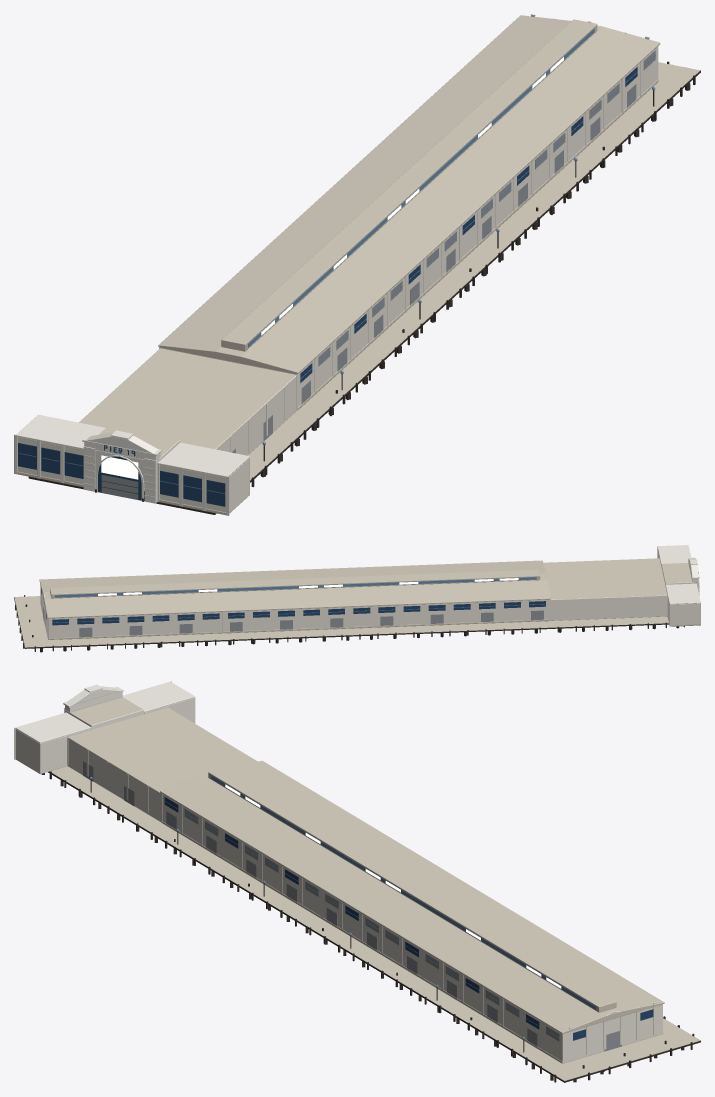
Rendered from pier-19.glb.
3 renders of one model, top to bottom at view 1: azimuth 30°, elevation 25°; view 2: azimuth 150°, elevation 25°; view 3: azimuth 270°, elevation 25°, orthographic. The views are drawn at different scales.
Visible parts, largest first — view 1: shed_roof, extension, deck, monitor, shed, bulkhead_s_cope, bulkhead_s, bulkhead_n_cope, mon_glass_True, shed_plinth, pavilion, bulkhead_n; view 2: shed_roof, shed, extension, deck, monitor, shed_plinth, mon_glass_False, bulkhead_n, bulkhead_n_cope, pavilion, bulkhead_s_cope; view 3: shed_roof, deck, extension, shed, monitor, bulkhead_s, pavilion, bulkhead_s_cope, bulkhead_n_cope, mon_glass_True, shed_plinth.
Part boxes in pixels (x1=…): shed_roof: x1=158, y1=15, x2=660, y2=373; extension: x1=79, y1=348, x2=297, y2=455; deck: x1=28, y1=62, x2=700, y2=514; monitor: x1=221, y1=19, x2=597, y2=351; shed: x1=160, y1=46, x2=658, y2=406; bulkhead_s_cope: x1=158, y1=442, x2=249, y2=477; bulkhead_s: x1=159, y1=457, x2=249, y2=513; bulkhead_n_cope: x1=16, y1=414, x2=105, y2=449; mon_glass_True: x1=248, y1=28, x2=594, y2=347; shed_plinth: x1=297, y1=79, x2=658, y2=410; pavilion: x1=95, y1=426, x2=179, y2=502; bulkhead_n: x1=17, y1=436, x2=83, y2=484; shed_roof: x1=39, y1=560, x2=550, y2=618; shed: x1=41, y1=593, x2=548, y2=639; extension: x1=543, y1=558, x2=667, y2=620; deck: x1=14, y1=596, x2=668, y2=648; monitor: x1=50, y1=569, x2=540, y2=598; shed_plinth: x1=48, y1=619, x2=549, y2=639; mon_glass_False: x1=55, y1=577, x2=536, y2=597; bulkhead_n: x1=665, y1=586, x2=700, y2=626; bulkhead_n_cope: x1=665, y1=583, x2=700, y2=604; pavilion: x1=661, y1=563, x2=698, y2=591; bulkhead_s_cope: x1=657, y1=545, x2=690, y2=563; shed_roof: x1=160, y1=760, x2=664, y2=1033; deck: x1=48, y1=766, x2=700, y2=1082; extension: x1=67, y1=707, x2=257, y2=822; shed: x1=162, y1=794, x2=662, y2=1063; monitor: x1=208, y1=767, x2=616, y2=1012; bulkhead_s: x1=15, y1=728, x2=91, y2=774; pavilion: x1=65, y1=697, x2=143, y2=729; bulkhead_s_cope: x1=15, y1=712, x2=91, y2=743; bulkhead_n_cope: x1=122, y1=681, x2=195, y2=712; mon_glass_True: x1=211, y1=775, x2=595, y2=1009; shed_plinth: x1=161, y1=821, x2=663, y2=1063.
Size of the model in its own units: 243 by 17.2 by 192.
